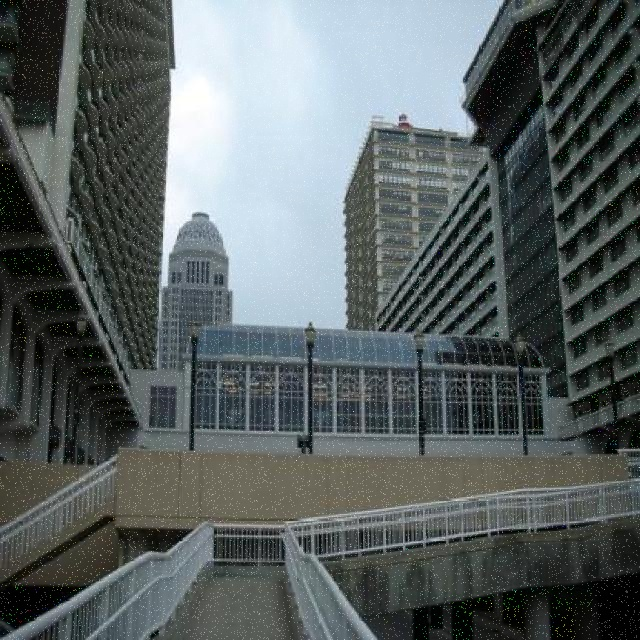stair: (120, 554, 366, 640)
